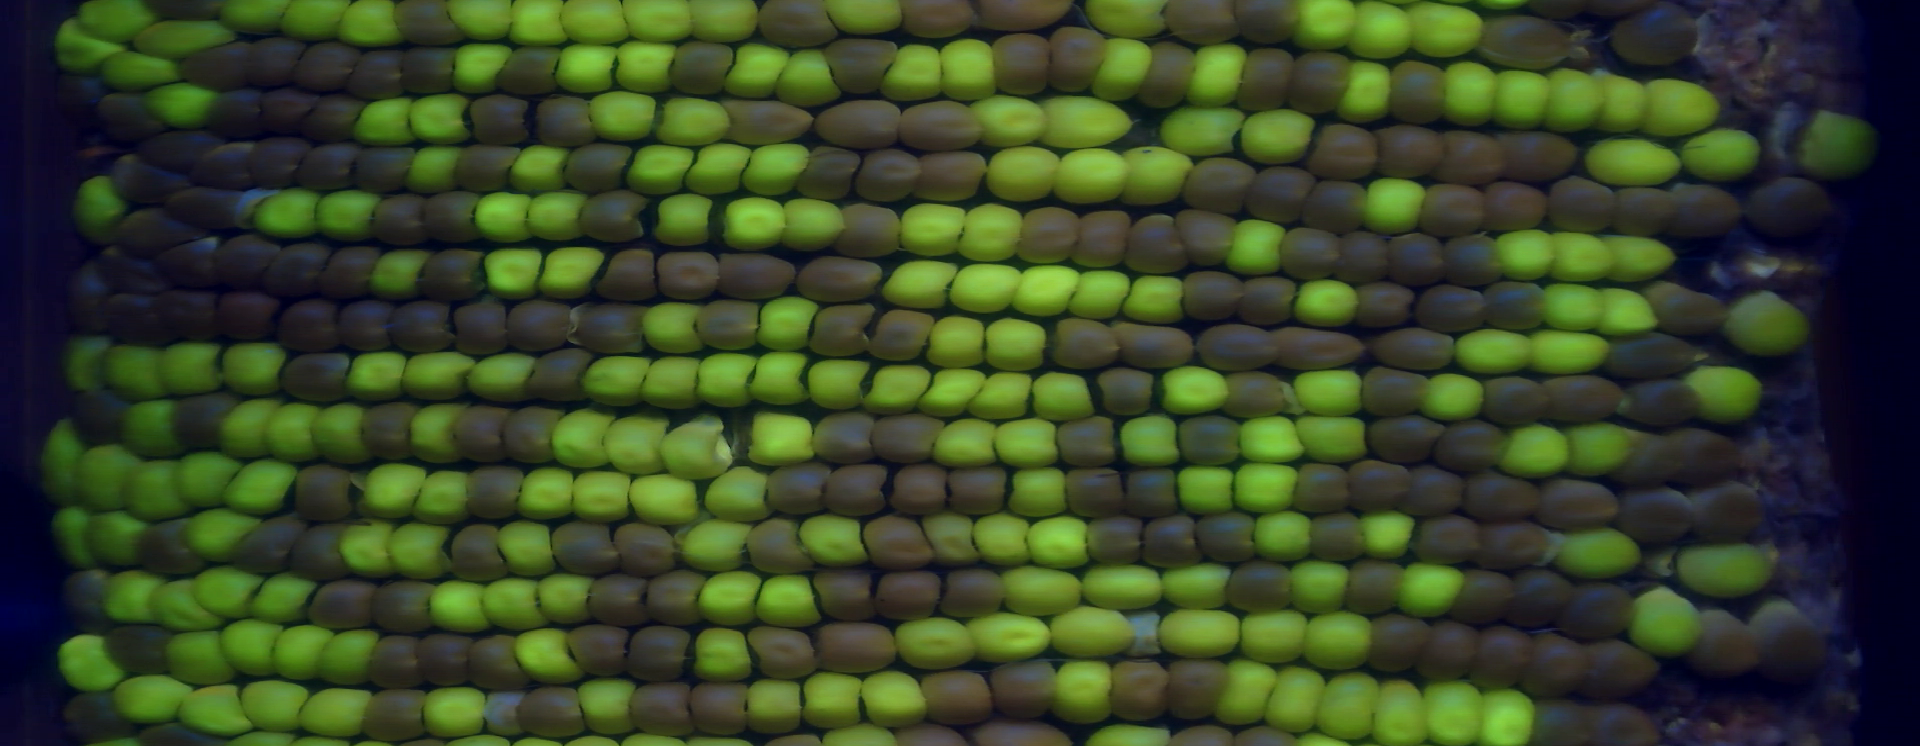fluorescent: (1798, 98, 1883, 180), (1671, 540, 1777, 599), (1586, 127, 1687, 187), (1038, 92, 1138, 149), (658, 410, 736, 481), (1630, 587, 1703, 661), (1299, 610, 1382, 675), (1727, 292, 1813, 353), (1149, 107, 1247, 160), (157, 628, 242, 690), (890, 615, 981, 673), (1684, 363, 1766, 425), (989, 413, 1071, 474), (163, 684, 256, 737), (1051, 149, 1141, 205), (628, 468, 707, 532), (584, 88, 669, 147), (1003, 563, 1090, 620), (1678, 125, 1769, 178), (1216, 659, 1284, 729), (921, 310, 996, 374), (182, 503, 263, 562), (1158, 606, 1253, 657), (1048, 606, 1142, 657), (36, 419, 91, 505), (1261, 663, 1330, 731), (170, 450, 249, 510), (78, 445, 148, 512), (1315, 669, 1381, 740), (219, 457, 299, 516), (99, 570, 174, 632), (969, 610, 1059, 661), (857, 663, 931, 725), (1529, 325, 1616, 377), (478, 575, 553, 635), (1419, 677, 1485, 746), (109, 674, 197, 725), (793, 512, 872, 570), (142, 76, 222, 132), (601, 407, 669, 473), (1289, 410, 1374, 463), (122, 463, 200, 521), (1360, 175, 1431, 238), (1123, 147, 1194, 209), (1561, 528, 1649, 578), (1022, 512, 1095, 573), (1406, 1, 1484, 58), (988, 147, 1068, 202), (1348, 1, 1419, 62), (1368, 675, 1429, 746), (898, 195, 969, 256), (54, 632, 131, 688), (1501, 421, 1573, 481), (882, 258, 964, 311), (948, 260, 1021, 318), (958, 202, 1024, 267), (1051, 658, 1118, 722), (511, 628, 590, 682), (1239, 110, 1315, 167), (1336, 54, 1397, 124), (1283, 557, 1360, 612), (381, 518, 453, 577), (1599, 232, 1678, 285), (156, 342, 238, 393), (309, 403, 373, 468), (1589, 69, 1653, 135), (473, 186, 541, 247), (1644, 78, 1720, 134), (1439, 60, 1498, 131), (1562, 418, 1633, 477), (216, 402, 288, 459), (149, 579, 227, 633), (937, 38, 1003, 100), (1491, 69, 1559, 130), (1009, 265, 1085, 318), (692, 354, 763, 412), (216, 619, 287, 676), (696, 570, 768, 626), (1116, 412, 1188, 468), (298, 685, 375, 737), (642, 349, 707, 412), (321, 630, 383, 695), (1228, 458, 1302, 513), (1396, 560, 1463, 620), (361, 461, 429, 521), (987, 314, 1056, 372), (927, 419, 1005, 470), (736, 143, 814, 195), (860, 363, 934, 416), (647, 190, 716, 247), (98, 341, 168, 398), (749, 296, 822, 352), (1189, 45, 1253, 108), (1453, 327, 1537, 375), (414, 467, 478, 529), (1224, 216, 1289, 277), (266, 619, 327, 684), (684, 518, 762, 570), (579, 352, 653, 405), (219, 338, 293, 392), (71, 171, 129, 240), (474, 243, 542, 300), (574, 676, 644, 733), (313, 187, 384, 243), (973, 96, 1049, 147), (338, 521, 400, 583), (553, 412, 615, 475), (566, 465, 631, 526), (1176, 463, 1248, 517), (746, 410, 818, 464), (662, 96, 735, 149), (721, 194, 789, 251), (803, 356, 873, 412), (721, 43, 791, 98), (1079, 563, 1166, 608), (253, 186, 324, 240), (1093, 39, 1156, 100), (749, 348, 813, 408), (496, 519, 560, 579), (340, 354, 422, 401), (1548, 67, 1607, 132), (798, 669, 864, 726), (1007, 463, 1074, 519), (1489, 227, 1558, 282), (683, 142, 753, 196), (400, 352, 479, 399), (700, 465, 771, 518), (696, 624, 753, 688), (923, 365, 988, 423), (1067, 265, 1131, 322), (771, 45, 836, 103), (126, 403, 191, 461), (779, 197, 845, 254), (754, 575, 823, 628), (84, 512, 148, 570), (1538, 278, 1609, 330), (189, 566, 260, 617), (1128, 272, 1194, 327), (538, 243, 604, 298), (242, 674, 309, 729), (1596, 284, 1663, 338), (627, 143, 694, 197), (1418, 371, 1490, 421), (884, 43, 945, 102), (463, 348, 536, 397), (1478, 684, 1536, 746), (613, 40, 676, 98), (264, 403, 327, 461), (249, 573, 318, 625), (1548, 227, 1613, 282), (640, 299, 705, 354), (1293, 367, 1369, 414), (1251, 506, 1314, 562), (522, 187, 591, 238), (969, 369, 1033, 423), (1151, 367, 1226, 414), (1291, 278, 1360, 327), (409, 94, 474, 147), (75, 1, 159, 42), (558, 1, 636, 45), (94, 47, 184, 85), (1240, 612, 1308, 663), (1360, 506, 1420, 562), (973, 513, 1033, 570), (616, 1, 702, 40), (744, 677, 804, 733), (426, 579, 493, 628), (516, 464, 579, 516), (336, 1, 408, 47), (420, 686, 490, 733), (558, 44, 620, 97), (366, 247, 433, 295), (820, 1, 907, 38), (66, 337, 124, 392), (51, 20, 121, 65), (1162, 565, 1236, 608), (684, 1, 762, 42), (536, 570, 594, 624), (1085, 1, 1172, 37), (1239, 415, 1305, 462), (138, 21, 238, 51), (411, 405, 467, 461), (354, 100, 422, 145), (1303, 1, 1359, 54), (48, 501, 91, 570), (1032, 370, 1095, 416), (509, 141, 571, 187), (410, 145, 464, 196), (504, 1, 571, 42), (453, 43, 506, 93), (280, 1, 347, 40), (219, 1, 293, 36), (448, 1, 514, 38), (1082, 724, 1171, 746), (818, 728, 898, 746)
nonfluorescent: (1746, 599, 1827, 685), (1640, 278, 1731, 341), (1691, 606, 1764, 684), (1746, 178, 1837, 240), (94, 288, 190, 347), (1576, 638, 1667, 699), (1478, 16, 1575, 72), (1461, 469, 1558, 526), (1177, 156, 1260, 219), (1490, 126, 1582, 184), (719, 96, 818, 148), (1471, 621, 1539, 695), (1605, 10, 1698, 64), (569, 296, 651, 356), (895, 98, 988, 149), (108, 149, 198, 202), (54, 563, 119, 637), (1539, 372, 1627, 426), (814, 100, 906, 152), (546, 518, 629, 575), (915, 668, 999, 723), (1616, 485, 1698, 541), (579, 189, 658, 247), (804, 298, 878, 360), (1108, 321, 1201, 370), (1127, 211, 1191, 281), (1604, 330, 1701, 376), (825, 37, 901, 96), (1164, 652, 1231, 719), (989, 36, 1058, 100), (1558, 584, 1640, 638), (1434, 125, 1509, 184), (1232, 48, 1296, 116), (1194, 321, 1281, 371), (1288, 49, 1351, 119), (1527, 632, 1589, 702), (1307, 124, 1384, 180), (743, 625, 820, 681), (358, 685, 431, 744), (1433, 421, 1512, 475), (1675, 424, 1742, 488), (1509, 563, 1571, 632), (715, 249, 798, 300), (988, 660, 1058, 722), (1691, 481, 1762, 541), (1536, 477, 1622, 526), (1270, 323, 1369, 366), (566, 625, 638, 684), (1300, 176, 1374, 234), (800, 141, 864, 206), (1477, 523, 1556, 576), (1138, 39, 1198, 109), (669, 40, 738, 100), (1047, 316, 1123, 371), (516, 682, 591, 737), (747, 1, 839, 47), (855, 147, 928, 203), (156, 232, 229, 288), (1389, 64, 1453, 127), (291, 521, 358, 583), (1247, 160, 1314, 222), (1547, 174, 1614, 235), (793, 254, 887, 298), (136, 518, 206, 577), (97, 243, 176, 294), (1615, 434, 1691, 488), (747, 518, 819, 575), (1622, 379, 1703, 429), (816, 622, 896, 673), (1015, 202, 1081, 263), (916, 149, 989, 205), (524, 345, 598, 401), (61, 695, 148, 741), (504, 399, 564, 467), (1226, 560, 1304, 611), (1671, 183, 1741, 240), (1051, 28, 1108, 98), (1416, 184, 1491, 236), (372, 576, 438, 636), (291, 462, 360, 519), (384, 296, 454, 353), (1479, 178, 1550, 233), (860, 514, 931, 570), (154, 285, 225, 341), (280, 348, 356, 399), (1340, 556, 1406, 615), (109, 208, 208, 247), (1063, 462, 1130, 519), (1174, 414, 1248, 467), (1374, 124, 1442, 180), (871, 566, 945, 617), (811, 568, 885, 620), (759, 462, 834, 513), (1369, 326, 1453, 371), (823, 463, 894, 517), (309, 581, 380, 635), (1369, 612, 1430, 675), (448, 523, 511, 584), (369, 631, 431, 692), (1419, 619, 1478, 684), (1358, 366, 1434, 416), (651, 247, 727, 298), (66, 255, 114, 334), (278, 295, 345, 352), (234, 514, 301, 571), (468, 632, 535, 688), (1414, 284, 1488, 336), (632, 682, 700, 737), (867, 307, 936, 363), (694, 299, 763, 354), (969, 1, 1079, 36), (207, 236, 280, 288), (564, 138, 634, 192), (1109, 661, 1171, 723), (399, 39, 462, 99), (175, 394, 239, 453), (1138, 514, 1209, 567), (100, 621, 171, 674), (361, 401, 419, 465), (214, 289, 280, 345), (595, 251, 665, 304), (332, 294, 396, 352), (1483, 278, 1548, 334), (633, 626, 698, 682), (1609, 184, 1680, 235), (834, 206, 905, 257), (1363, 415, 1441, 462), (940, 563, 1007, 619), (1174, 206, 1240, 261), (264, 243, 331, 298), (1163, 1, 1245, 45), (689, 677, 749, 737), (1071, 208, 1131, 268), (422, 190, 485, 247), (1384, 233, 1449, 288), (1220, 369, 1291, 419), (887, 461, 953, 514), (168, 184, 249, 228), (588, 572, 654, 626), (388, 1, 467, 47), (456, 401, 514, 461), (320, 243, 381, 300), (1451, 568, 1513, 625), (415, 632, 478, 688), (465, 93, 531, 146), (1484, 377, 1555, 426), (451, 299, 511, 356), (298, 39, 359, 96), (72, 390, 133, 446), (298, 94, 366, 145), (1441, 234, 1505, 288), (812, 412, 878, 463), (184, 143, 261, 187), (504, 300, 571, 352), (868, 414, 943, 459), (1304, 513, 1371, 563), (295, 141, 362, 191), (136, 131, 228, 168), (899, 1, 982, 42), (534, 94, 596, 148), (1052, 418, 1124, 464), (1278, 225, 1342, 278), (498, 45, 564, 96), (247, 138, 315, 187), (613, 522, 676, 575), (1085, 516, 1149, 567), (425, 247, 489, 299), (1093, 367, 1160, 416), (458, 142, 524, 191), (1335, 230, 1395, 284), (1238, 276, 1298, 330), (644, 570, 705, 622), (1587, 706, 1667, 746), (98, 91, 167, 137), (1344, 461, 1409, 510), (204, 89, 269, 138), (348, 146, 424, 187), (949, 465, 1010, 517), (54, 69, 104, 131), (1412, 517, 1480, 562), (465, 464, 522, 519), (1122, 468, 1187, 516), (181, 44, 253, 87), (260, 87, 321, 137), (1404, 468, 1468, 516), (245, 34, 301, 88), (349, 47, 407, 99), (1184, 274, 1245, 323), (1524, 699, 1588, 746), (1199, 510, 1259, 559), (1232, 1, 1304, 42), (1291, 461, 1349, 510), (370, 195, 429, 244), (1356, 281, 1414, 326), (973, 722, 1079, 746), (126, 723, 227, 746), (142, 1, 228, 24), (889, 724, 969, 746), (1174, 725, 1229, 746)
